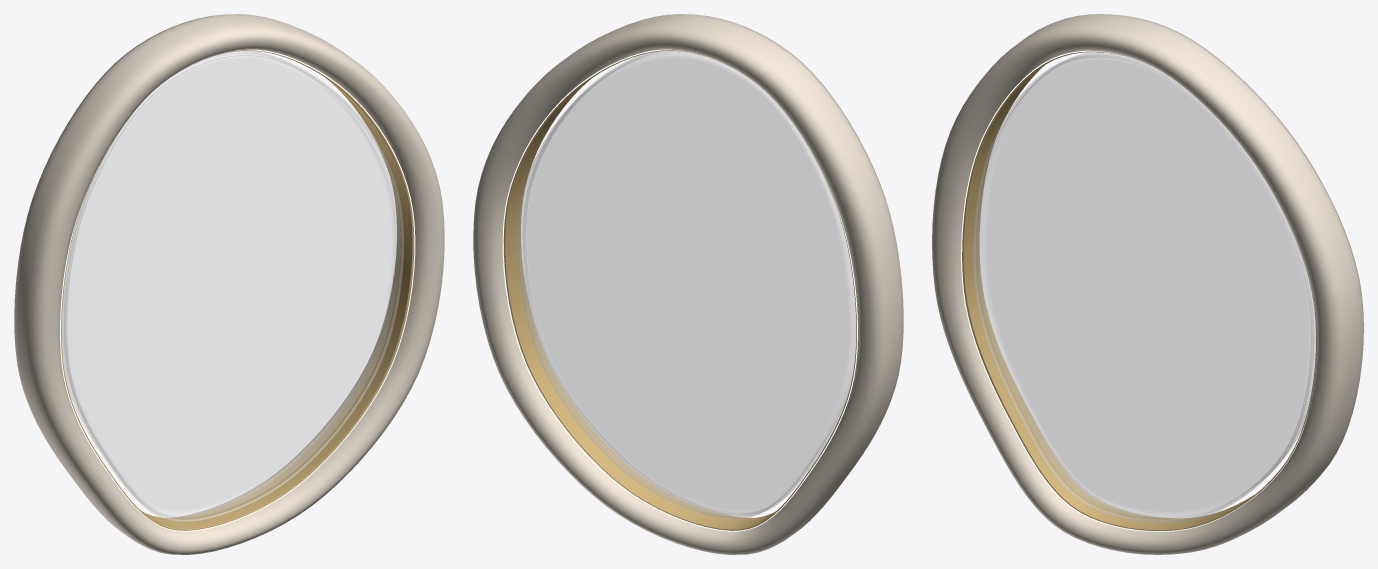
The model's file is orbit.glb.
The picture shows the model from 3 angles, left to right: view 1: azimuth 30°, elevation 25°; view 2: azimuth 150°, elevation 25°; view 3: azimuth 330°, elevation 25°; orthographic projection.
Parts seen in each view (by area): view 1: Slab_Glass.005, Fixed_GlassFrame.005, Fixed_ChampagneReveal.005, Slab_PolishedEdge.005, Fixed_InnerLight_Front.005; view 2: Slab_Glass.005, Fixed_GlassFrame.005, Fixed_ChampagneReveal.005, Slab_PolishedEdge.005, Fixed_InnerLight_Back.005; view 3: Slab_Glass.005, Fixed_GlassFrame.005, Fixed_ChampagneReveal.005, Slab_PolishedEdge.005, Fixed_InnerLight_Front.005.
Boxes of the visible parts, x1,y1,x2,y2 form: Slab_Glass.005: (62,51,400,518); Fixed_GlassFrame.005: (14,14,444,554); Fixed_ChampagneReveal.005: (60,49,414,530); Slab_PolishedEdge.005: (64,53,403,521); Fixed_InnerLight_Front.005: (60,49,415,531); Slab_Glass.005: (517,51,855,518); Fixed_GlassFrame.005: (473,14,903,554); Fixed_ChampagneReveal.005: (503,49,857,530); Slab_PolishedEdge.005: (523,51,846,515); Fixed_InnerLight_Back.005: (502,49,857,531); Slab_Glass.005: (976,52,1315,519); Fixed_GlassFrame.005: (932,14,1363,554); Fixed_ChampagneReveal.005: (962,51,1316,530); Slab_PolishedEdge.005: (973,54,1313,522); Fixed_InnerLight_Front.005: (961,50,1313,531).
Bounding box in the file's own units: 2.57 × 3.06 × 0.3539.
